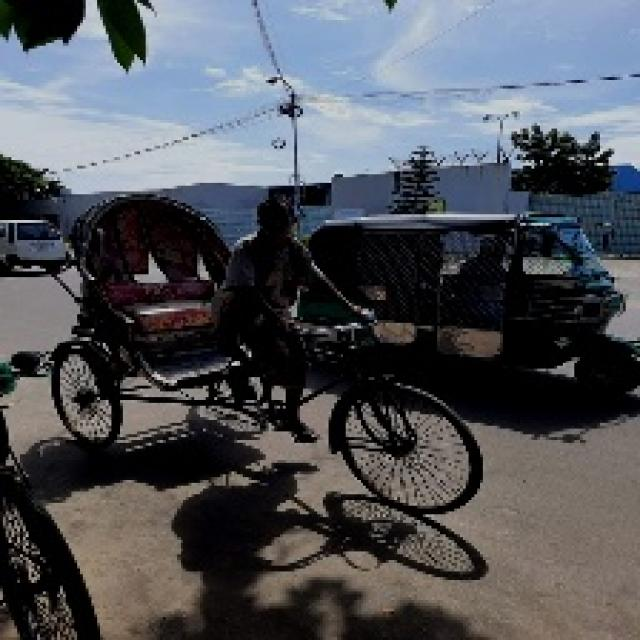rickshaw: (65, 194, 505, 509)
